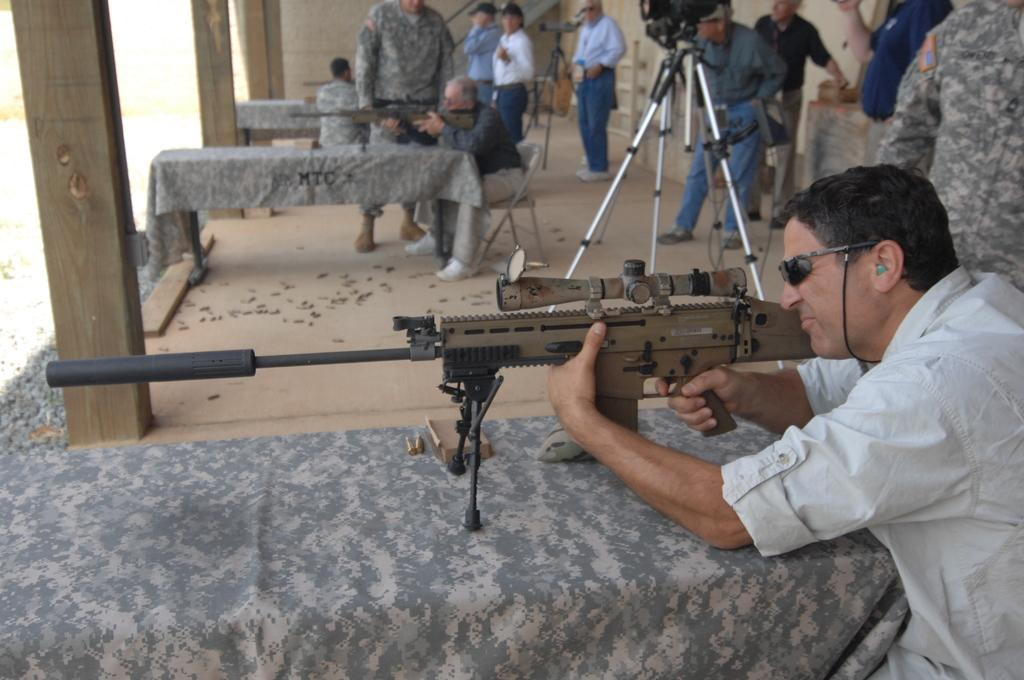Rifle: (44, 243, 818, 531), (285, 89, 478, 127)
